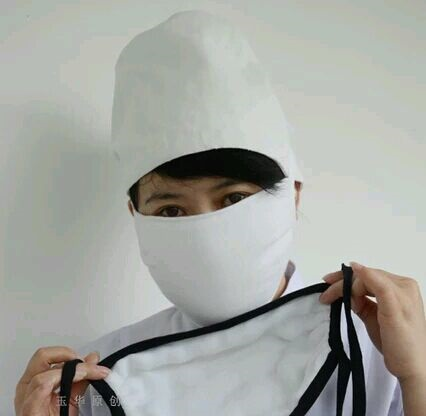face_mask: (136, 141, 286, 312)
